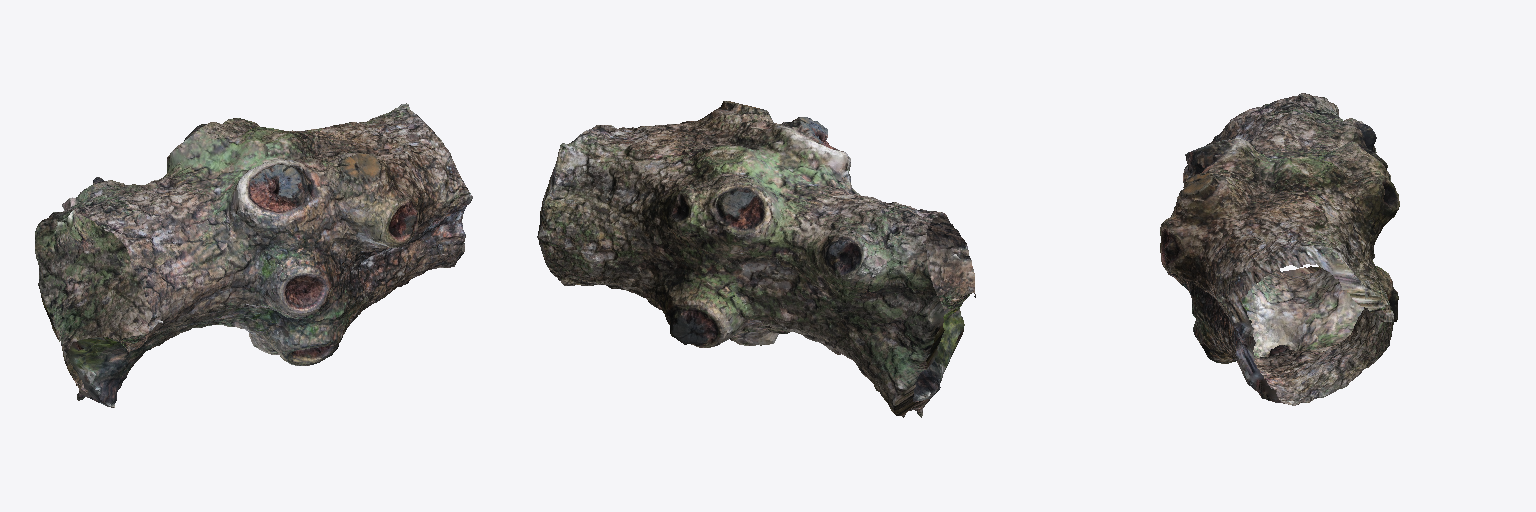
The picture shows the model from 3 angles: view 1: azimuth 30°, elevation 25°; view 2: azimuth 150°, elevation 25°; view 3: azimuth 270°, elevation 25°; orthographic projection.
Bounding box in the file's own units: 4.36 × 2.4 × 2.3.
1 materials, 1 textured.